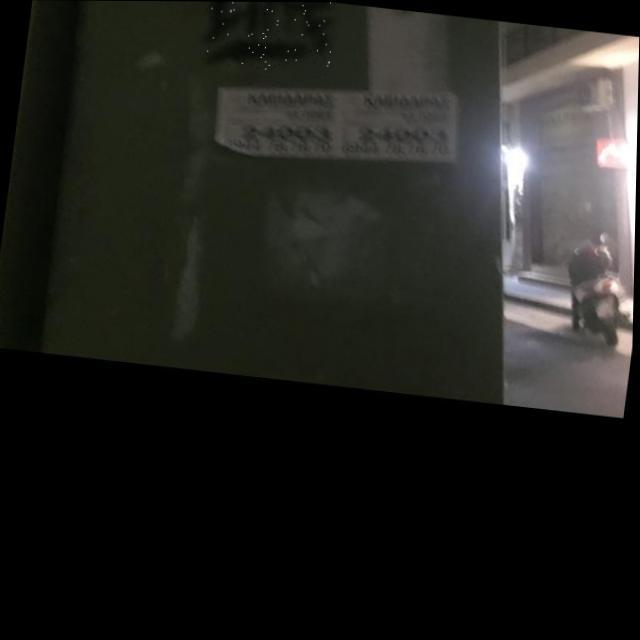-: (198, 1, 336, 76)
